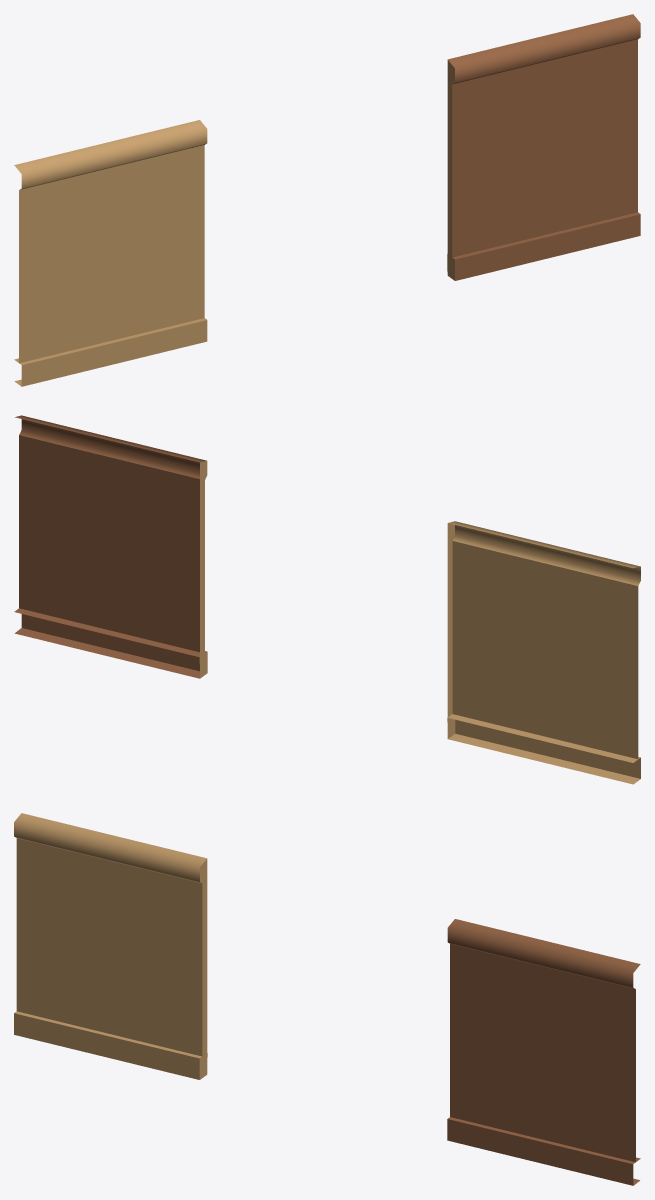
The model's file is DBK_Molding_Bottom_Door.fbx.
3 renders of one model, top to bottom at view 1: azimuth 30°, elevation 25°; view 2: azimuth 150°, elevation 25°; view 3: azimuth 330°, elevation 25°, orthographic.
Visible parts, largest first — view 1: DBK_Molding_Bottom_Door; view 2: DBK_Molding_Bottom_Door; view 3: DBK_Molding_Bottom_Door.
Part boxes in pixels (x1,y1,x2,y2): DBK_Molding_Bottom_Door: (14, 14, 640, 386); DBK_Molding_Bottom_Door: (14, 415, 640, 784); DBK_Molding_Bottom_Door: (14, 813, 640, 1185).
Size of the model in its own units: 300 by 100 by 6.52.
